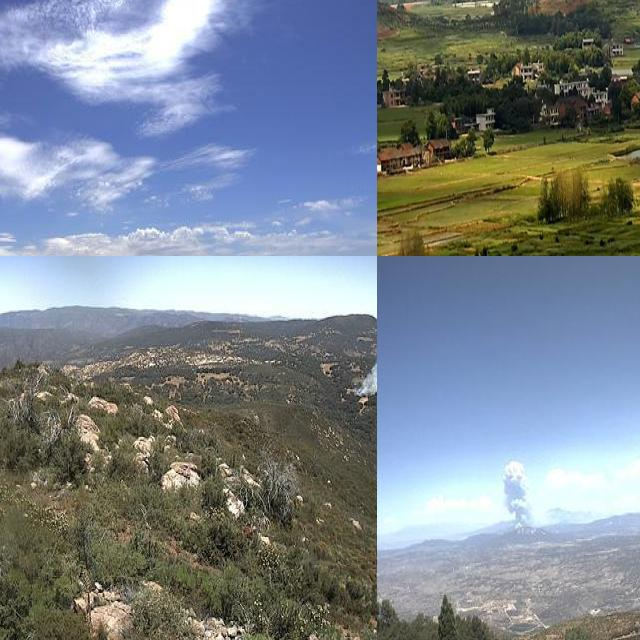smoke: (501, 456, 534, 531)
